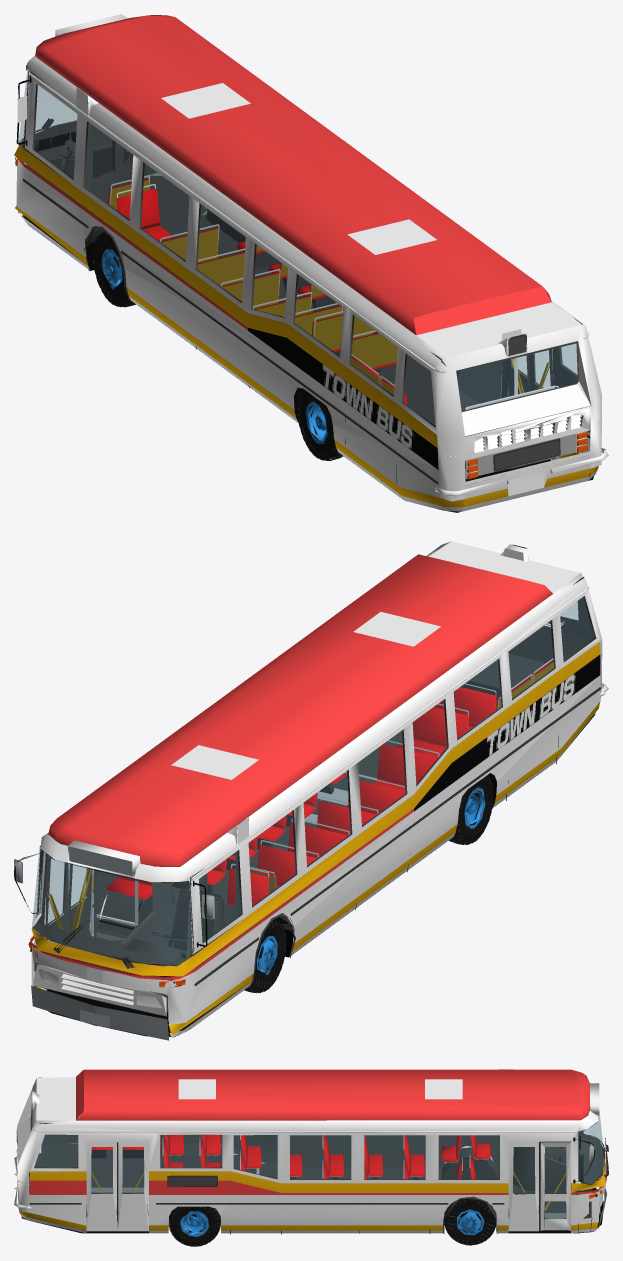
Rendered from bus_city.glb.
The picture shows the model from 3 angles, top to bottom: view 1: azimuth 30°, elevation 25°; view 2: azimuth 150°, elevation 25°; view 3: azimuth 270°, elevation 25°; orthographic projection. The views are drawn at different scales.
Visible parts, largest first — view 1: Object_25, Object_34, Object_16, Object_22, Object_33, Object_35, Object_27, Object_2, Object_23, Object_24, Object_32, Object_12 (+6 smaller); view 2: Object_34, Object_25, Object_16, Object_24, Object_22, Object_33, Object_27, Object_23, Object_2, Object_17, Object_9, Object_12 (+8 smaller); view 3: Object_25, Object_34, Object_16, Object_27, Object_22, Object_33, Object_24, Object_23, Object_10, Object_12, Object_32, Object_6 (+4 smaller).
Boxes of the visible parts, x1=… form: Object_25: x1=16, y1=56, x2=601, y2=511; Object_34: x1=17, y1=15, x2=551, y2=469; Object_16: x1=18, y1=71, x2=577, y2=423; Object_22: x1=16, y1=84, x2=577, y2=469; Object_33: x1=14, y1=145, x2=598, y2=507; Object_35: x1=109, y1=179, x2=550, y2=403; Object_27: x1=23, y1=58, x2=591, y2=462; Object_2: x1=248, y1=328, x2=438, y2=469; Object_23: x1=19, y1=58, x2=590, y2=484; Object_24: x1=108, y1=179, x2=407, y2=405; Object_32: x1=28, y1=72, x2=608, y2=496; Object_12: x1=297, y1=389, x2=343, y2=460; Object_34: x1=30, y1=554, x2=586, y2=980; Object_25: x1=31, y1=541, x2=602, y2=1038; Object_16: x1=32, y1=597, x2=593, y2=979; Object_24: x1=106, y1=660, x2=553, y2=905; Object_22: x1=30, y1=596, x2=596, y2=1011; Object_33: x1=31, y1=642, x2=600, y2=1035; Object_27: x1=33, y1=543, x2=596, y2=1035; Object_23: x1=14, y1=544, x2=600, y2=986; Object_2: x1=414, y1=655, x2=600, y2=811; Object_17: x1=31, y1=772, x2=377, y2=1040; Object_9: x1=14, y1=658, x2=553, y2=1005; Object_12: x1=449, y1=775, x2=493, y2=844; Object_25: x1=16, y1=1069, x2=606, y2=1233; Object_34: x1=29, y1=1069, x2=606, y2=1194; Object_16: x1=31, y1=1114, x2=604, y2=1218; Object_27: x1=30, y1=1077, x2=594, y2=1231; Object_22: x1=34, y1=1134, x2=603, y2=1227; Object_33: x1=18, y1=1133, x2=605, y2=1230; Object_24: x1=91, y1=1135, x2=490, y2=1179; Object_23: x1=29, y1=1092, x2=608, y2=1233; Object_10: x1=444, y1=1159, x2=495, y2=1245; Object_12: x1=168, y1=1206, x2=220, y2=1246; Object_32: x1=14, y1=1085, x2=576, y2=1209; Object_6: x1=21, y1=1136, x2=603, y2=1233.
Size of the model in its own units: 2.57 by 2.62 by 10.6.
20 materials, 3 textured.
